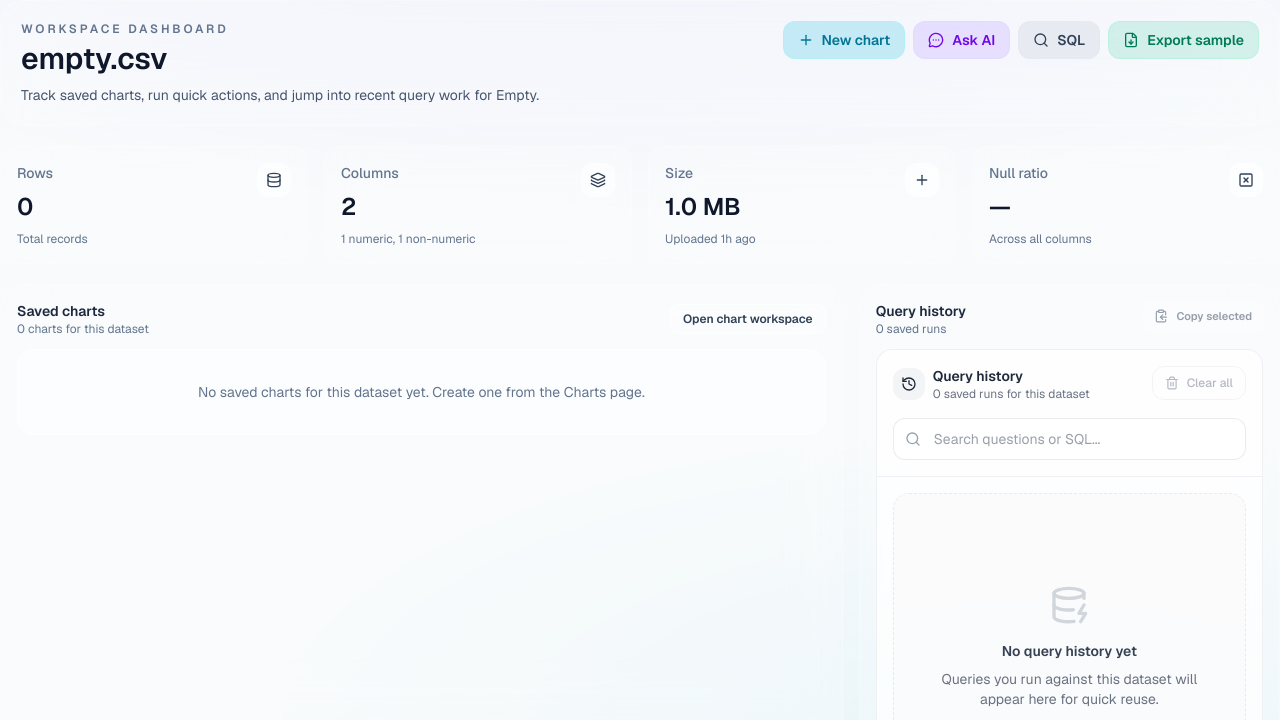
DashboardPage › shows a status message when exporting a dataset with no rows
Click the button "Export sample" at (1184, 40), box [1108, 21, 1259, 59]
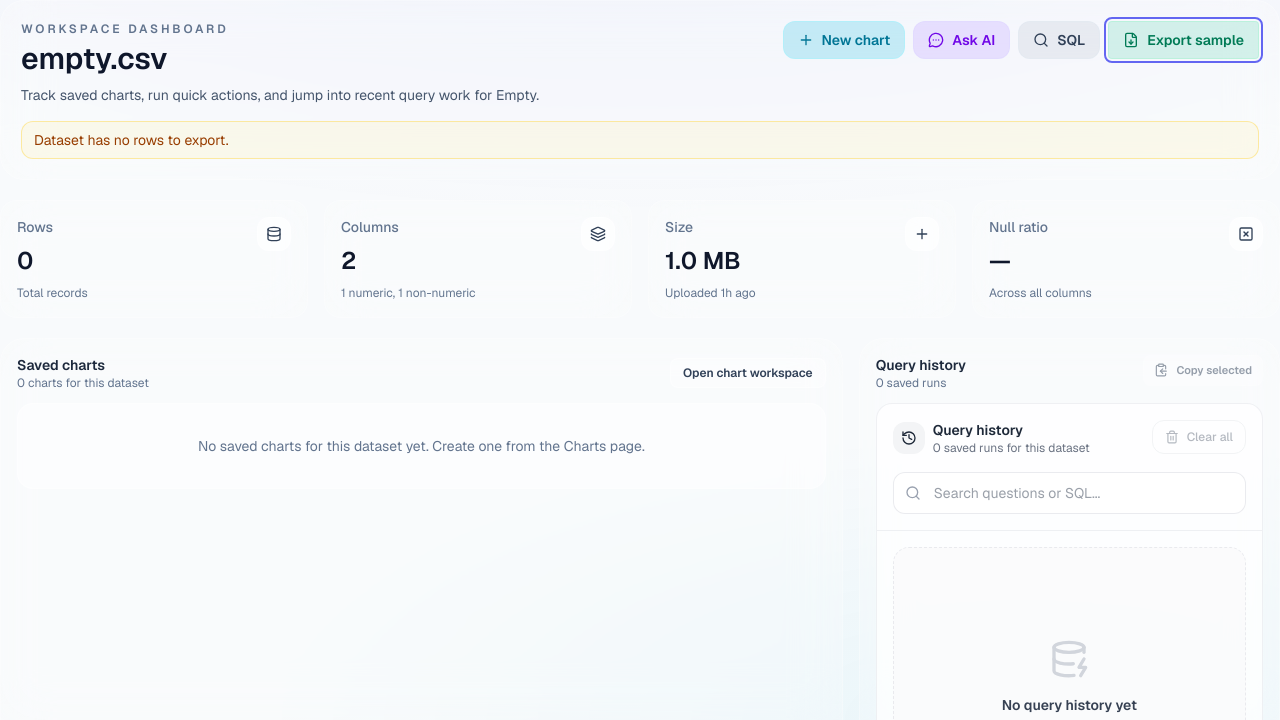
Result: the text "Dataset has no rows to export." is shown at [21, 121, 1259, 159]
